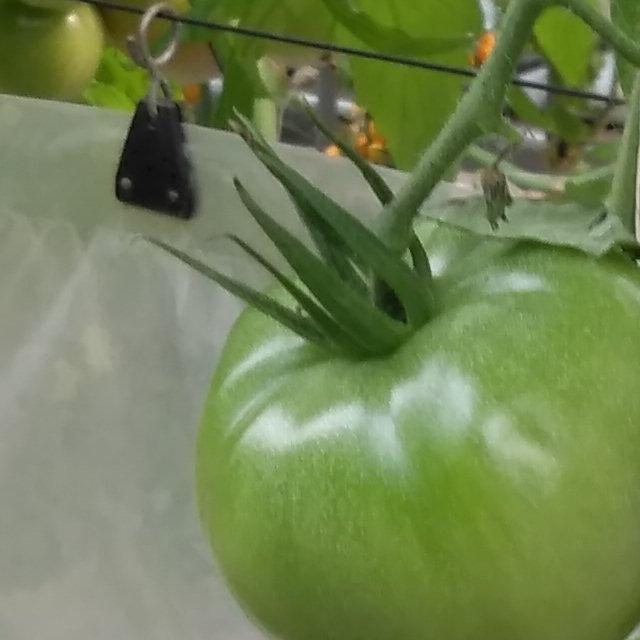tomato: (150, 70, 640, 640)
